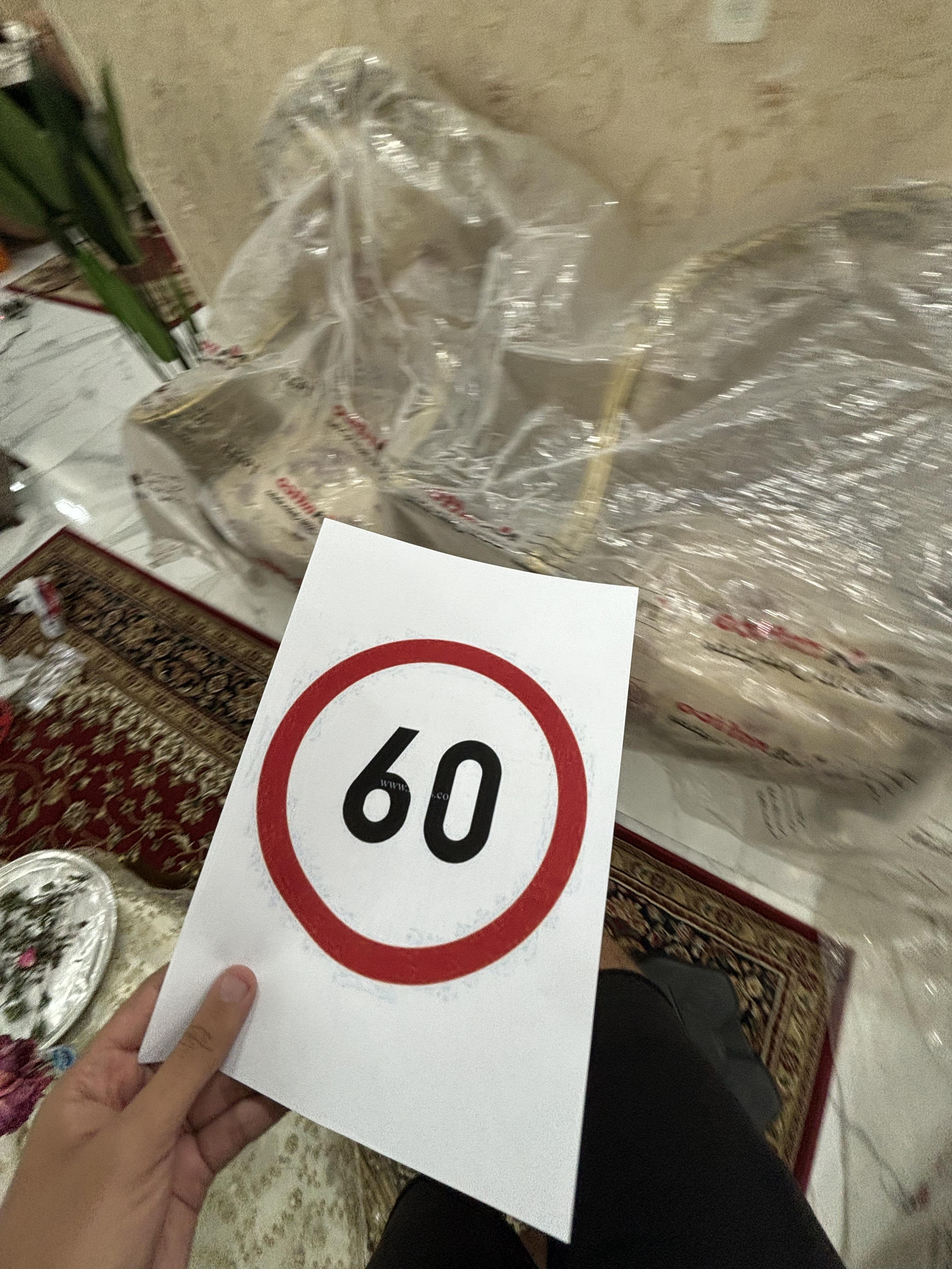60-Speed: (249, 624, 611, 994)
